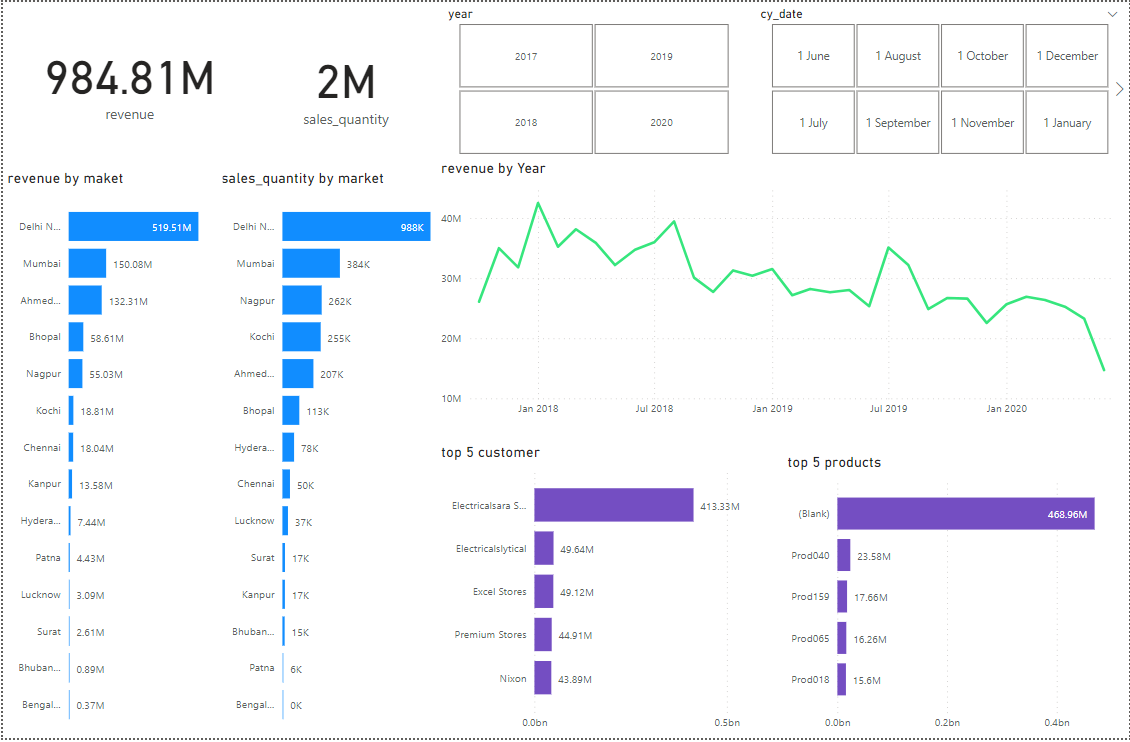

Layout of this report page (visuals, bound fields, positions):
{"tool":"powerbi","page":{"name":"Page 1","canvas":[1300,850],"ordinal":0},"visuals":[{"type":"card","fields":{"Values":["basemeasure.revenue"]},"box":[291.5,10.1,209.3,171.7],"z":0},{"type":"card","fields":{"Values":["basemeasure.revenue"]},"box":[1.4,0,290.1,181.8],"z":1000},{"type":"barChart","title":"sales_quantity by market","fields":{"Y":["basemeasure.sales_quantity"],"Category":["sales markets.markets_name"]},"box":[246.8,193.4,254,656.6],"z":2000},{"type":"slicer","fields":{"Values":["sales date.cy_date"]},"box":[861.5,0,438.7,181.8],"z":3000},{"type":"slicer","fields":{"Values":["sales date.year"]},"box":[500.8,0,360.8,181.8],"z":4000},{"type":"barChart","title":"revenue by maket","fields":{"Category":["sales markets.markets_name"],"Y":["basemeasure.revenue"]},"box":[0,193.4,254,656.6],"z":5000},{"type":"barChart","title":"top 5 customer ","fields":{"Category":["sales customers.custmer_name"],"Y":["basemeasure.revenue"]},"box":[500.8,509.4,399.7,340.6],"z":6000},{"type":"barChart","title":"top 5 products","fields":{"Category":["sales products.product_code"],"Y":["basemeasure.revenue"]},"box":[900.5,521,399.7,329],"z":7000},{"type":"lineChart","title":"revenue by Year","fields":{"Y":["basemeasure.revenue"],"Category":["sales date.cy_date.Variation.Date Hierarchy.Year","sales date.cy_date.Variation.Date Hierarchy.Quarter","sales date.cy_date.Variation.Date Hierarchy.Month","sales date.cy_date.Variation.Date Hierarchy.Day"]},"box":[500.8,181.8,799.5,305.9],"z":8000}]}

Visuals, with their boxes in screenshot pixels (x1, y1, x2, y2), scaled from the page's 1300x850 canvas onto the 1130x742 screenshot:
card - basemeasure.revenue: left=253, top=9, right=435, bottom=159
card - basemeasure.revenue: left=1, top=0, right=253, bottom=159
"sales_quantity by market" barChart: left=215, top=169, right=435, bottom=741
slicer - sales date.cy_date: left=749, top=0, right=1129, bottom=159
slicer - sales date.year: left=435, top=0, right=749, bottom=159
"revenue by maket" barChart: left=0, top=169, right=221, bottom=741
"top 5 customer " barChart: left=435, top=445, right=783, bottom=741
"top 5 products" barChart: left=783, top=455, right=1129, bottom=741
"revenue by Year" lineChart: left=435, top=159, right=1129, bottom=426
